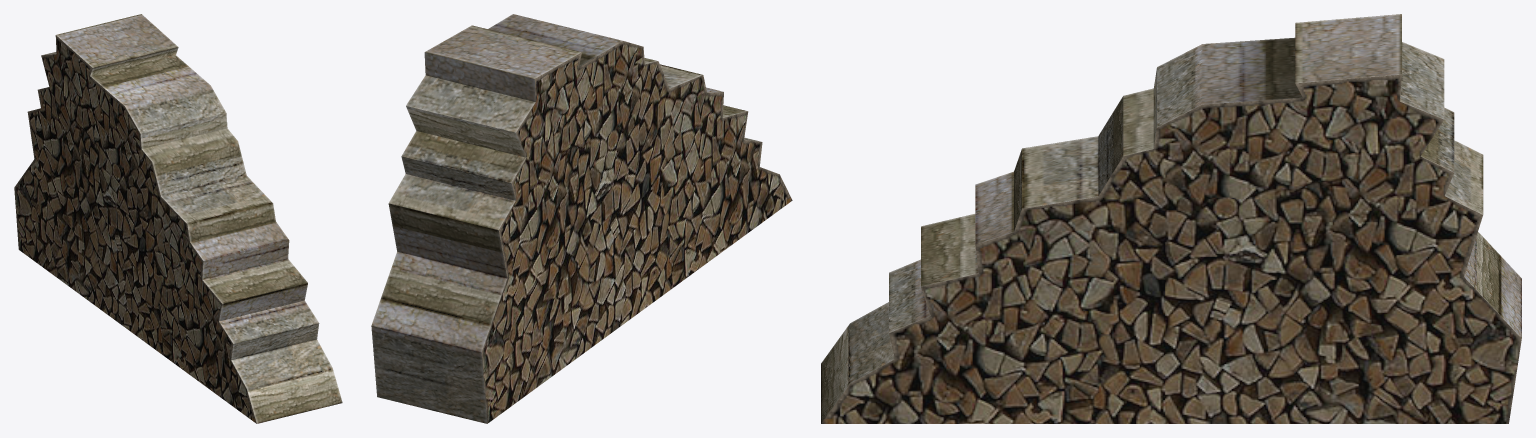
File: woodpile.FBX
3 renders of one model, left to right at view 1: azimuth 30°, elevation 25°; view 2: azimuth 150°, elevation 25°; view 3: azimuth 270°, elevation 25°, orthographic. The views are drawn at different scales.
Visible parts, largest first — view 1: woodpile; view 2: woodpile; view 3: woodpile.
Boxes of the visible parts, <box> form: woodpile: <box>14,14,342,423</box>; woodpile: <box>371,14,792,423</box>; woodpile: <box>821,14,1521,423</box>.
Size of what is drawn, in the model's own units: 43.27 by 116 by 211.
